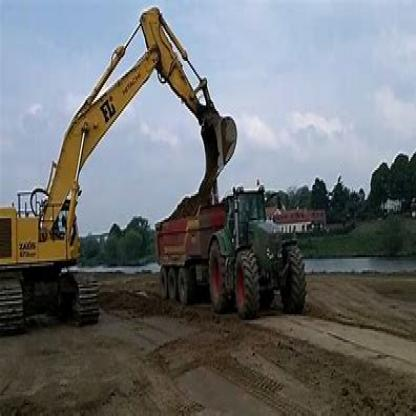excavator: (5, 6, 236, 342)
